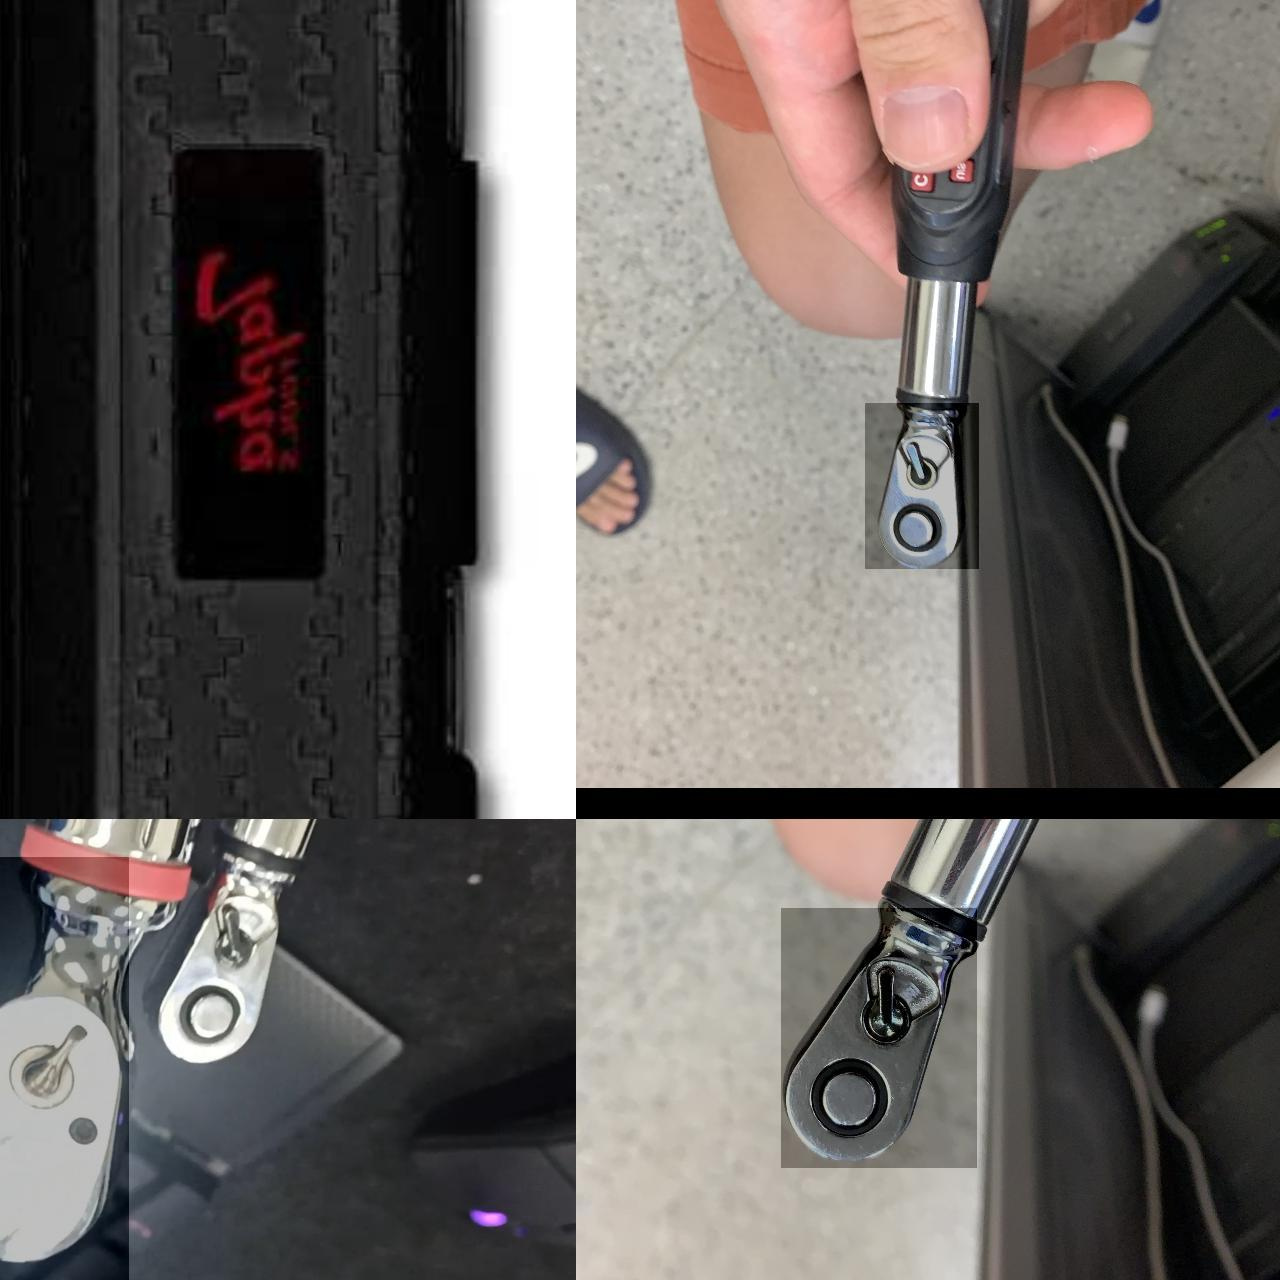Tool: (0, 856, 129, 1280), (781, 907, 978, 1167), (157, 838, 299, 1078), (865, 402, 979, 568)
